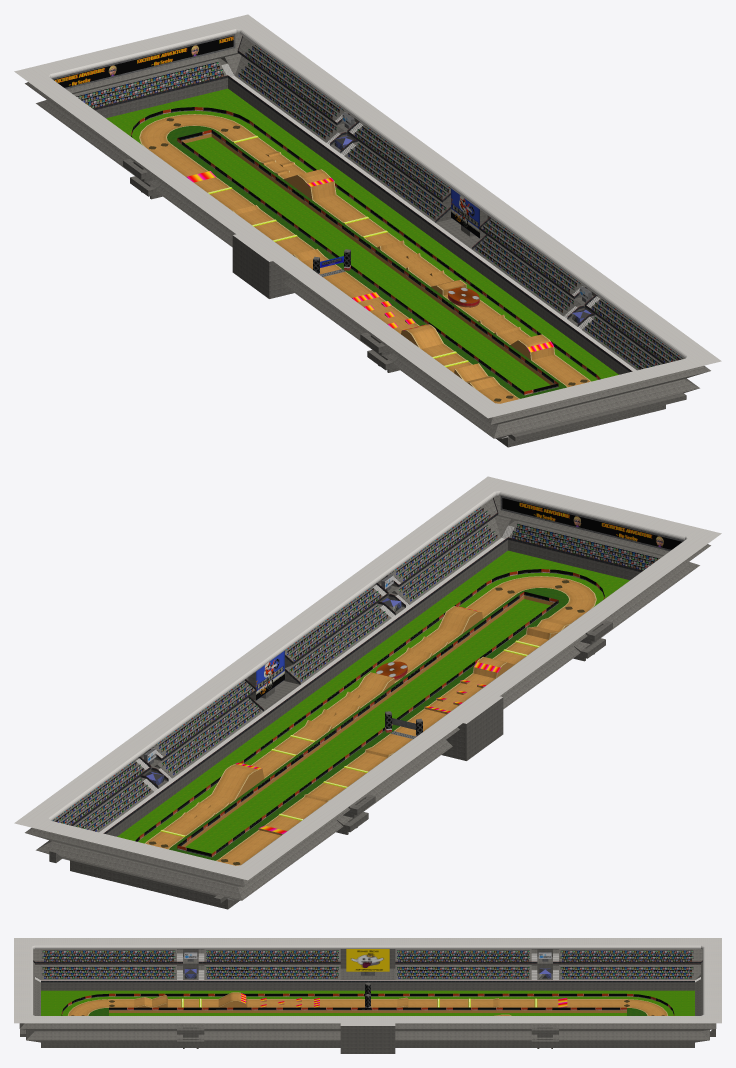
The picture shows the model from 3 angles, top to bottom: view 1: azimuth 30°, elevation 25°; view 2: azimuth 150°, elevation 25°; view 3: azimuth 270°, elevation 25°; orthographic projection. The views are drawn at different scales.
Parts seen in each view (by area): view 1: Excitebike_Arena-SKP--Soft_Offroad.002, Excitebike_Arena-SKP--Soft_Offroad.012, Excitebike_Arena-SKP--Soft_Offroad.008, Excitebike_Arena-SKP--Soft_Offroad.009, Excitebike_Arena-SKP--Fans, Excitebike_Arena-SKP--Wall, Excitebike_Arena-SKP--Soft_Offroad.007, Excitebike_Arena-SKP--Fence, Excitebike_Arena-SKP--Soft_Offroad.005, Excitebike_Arena-SKP--EABanner, Excitebike_Arena-SKP--Soft_Offroad, Excitebike_Arena-SKP--Trick_Boost (+1 smaller); view 2: Excitebike_Arena-SKP--Soft_Offroad.002, Excitebike_Arena-SKP--Soft_Offroad.012, Excitebike_Arena-SKP--Soft_Offroad.008, Excitebike_Arena-SKP--Soft_Offroad.009, Excitebike_Arena-SKP--Fans, Excitebike_Arena-SKP--Wall, Excitebike_Arena-SKP--Soft_Offroad.007, Excitebike_Arena-SKP--Fence, Excitebike_Arena-SKP--Soft_Offroad.005, Excitebike_Arena-SKP--EABanner, Excitebike_Arena-SKP--Soft_Offroad, Excitebike_Arena-SKP--Excitebike; view 3: Excitebike_Arena-SKP--Soft_Offroad.002, Excitebike_Arena-SKP--Soft_Offroad.012, Excitebike_Arena-SKP--Fans, Excitebike_Arena-SKP--Soft_Offroad.008, Excitebike_Arena-SKP--Soft_Offroad.009, Excitebike_Arena-SKP--Wall, Excitebike_Arena-SKP--Fence, Excitebike_Arena-SKP--Soft_Offroad.005, Excitebike_Arena-SKP--KingBoo, Excitebike_Arena-SKP--Trick_Boost, Excitebike_Arena-SKP--Soft_Offroad.007.
Part boxes in pixels (<box>): Excitebike_Arena-SKP--Soft_Offroad.002: <box>25,33,710,447</box>; Excitebike_Arena-SKP--Soft_Offroad.012: <box>14,14,721,438</box>; Excitebike_Arena-SKP--Soft_Offroad.008: <box>106,88,618,391</box>; Excitebike_Arena-SKP--Soft_Offroad.009: <box>139,114,590,403</box>; Excitebike_Arena-SKP--Fans: <box>76,45,683,369</box>; Excitebike_Arena-SKP--Wall: <box>131,107,600,395</box>; Excitebike_Arena-SKP--Soft_Offroad.007: <box>167,126,566,398</box>; Excitebike_Arena-SKP--Fence: <box>92,36,665,371</box>; Excitebike_Arena-SKP--Soft_Offroad.005: <box>181,133,553,386</box>; Excitebike_Arena-SKP--EABanner: <box>54,36,233,87</box>; Excitebike_Arena-SKP--Soft_Offroad: <box>52,34,591,302</box>; Excitebike_Arena-SKP--Trick_Boost: <box>187,171,553,352</box>; Excitebike_Arena-SKP--Soft_Offroad.002: <box>25,495,710,909</box>; Excitebike_Arena-SKP--Soft_Offroad.012: <box>14,476,721,900</box>; Excitebike_Arena-SKP--Soft_Offroad.008: <box>117,550,629,853</box>; Excitebike_Arena-SKP--Soft_Offroad.009: <box>145,576,596,865</box>; Excitebike_Arena-SKP--Fans: <box>52,507,659,831</box>; Excitebike_Arena-SKP--Wall: <box>135,569,604,857</box>; Excitebike_Arena-SKP--Soft_Offroad.007: <box>169,588,568,860</box>; Excitebike_Arena-SKP--Fence: <box>70,498,643,833</box>; Excitebike_Arena-SKP--Soft_Offroad.005: <box>182,595,568,846</box>; Excitebike_Arena-SKP--EABanner: <box>502,498,681,549</box>; Excitebike_Arena-SKP--Soft_Offroad: <box>144,496,683,764</box>; Excitebike_Arena-SKP--Excitebike: <box>256,650,284,700</box>; Excitebike_Arena-SKP--Soft_Offroad.002: <box>19,949,716,1053</box>; Excitebike_Arena-SKP--Soft_Offroad.012: <box>14,938,721,1025</box>; Excitebike_Arena-SKP--Fans: <box>42,950,693,978</box>; Excitebike_Arena-SKP--Soft_Offroad.008: <box>41,990,694,1015</box>; Excitebike_Arena-SKP--Soft_Offroad.009: <box>68,992,667,1015</box>; Excitebike_Arena-SKP--Wall: <box>61,993,674,1015</box>; Excitebike_Arena-SKP--Fence: <box>33,960,702,982</box>; Excitebike_Arena-SKP--Soft_Offroad.005: <box>109,1000,626,1012</box>; Excitebike_Arena-SKP--KingBoo: <box>346,949,389,971</box>; Excitebike_Arena-SKP--Trick_Boost: <box>241,993,567,1015</box>; Excitebike_Arena-SKP--Soft_Offroad.007: <box>88,1008,647,1015</box>.
Bounding box in the file's own units: 34150 × 7188 × 119600.
27 materials, 26 textured.
